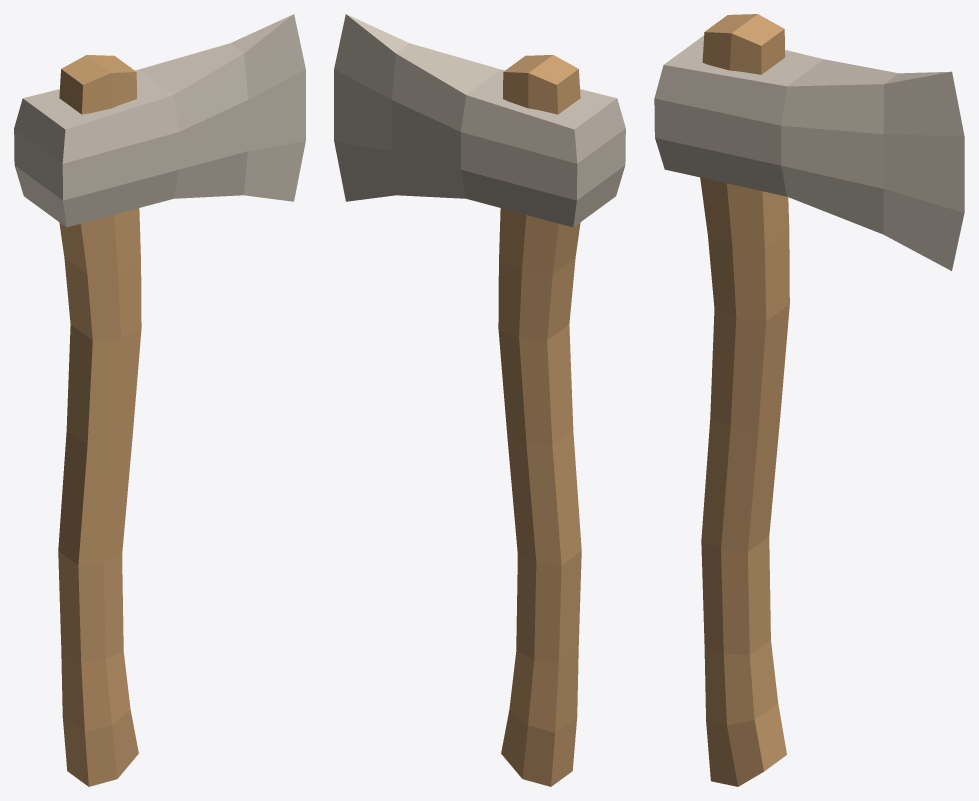
Rendered from Axe.fbx.
3 renders of one model, left to right at view 1: azimuth 30°, elevation 25°; view 2: azimuth 150°, elevation 25°; view 3: azimuth 330°, elevation 25°, orthographic. The views are drawn at different scales.
Parts seen in each view (by area): view 1: Cube, Cube.001; view 2: Cube, Cube.001; view 3: Cube, Cube.001.
Part boxes in pixels (box(x1,y1,x2,y2)): Cube: box(58, 55, 141, 786); Cube.001: box(14, 14, 305, 227); Cube: box(498, 55, 581, 786); Cube.001: box(334, 14, 625, 227); Cube: box(700, 14, 789, 786); Cube.001: box(654, 35, 964, 270).
Bounding box in the file's own units: 194 × 493 × 61.
